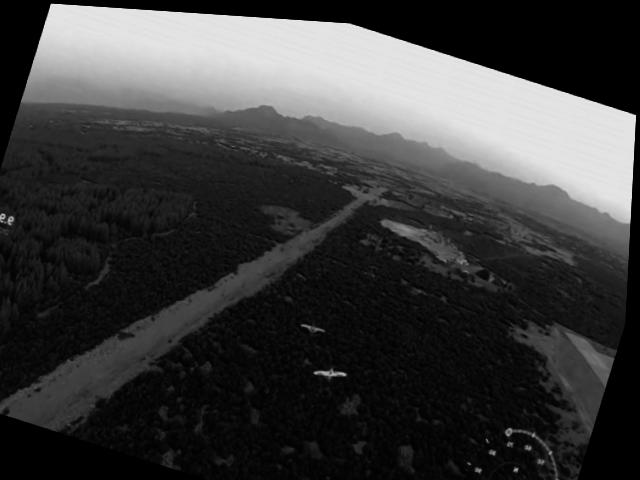hedef: (307, 347, 356, 388), (296, 308, 336, 341)
